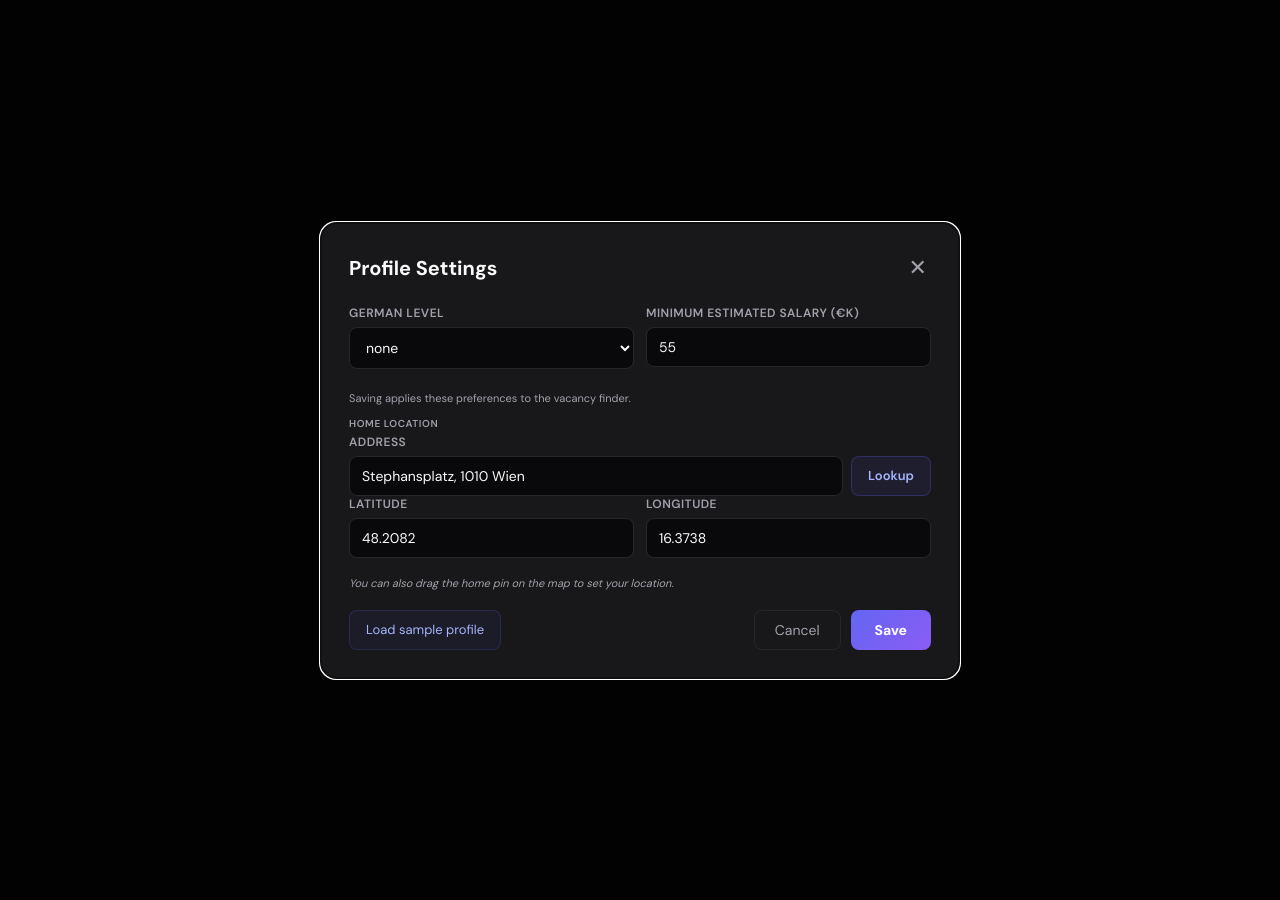
Test case: SettingsModal › successful lookup updates lat/lng and shows 'Coordinates updated'
The width and height of the screenshot is (1280, 900).
What coordinates should you click on to do the following:
click the button "Lookup"
I would click on:
 (891, 476)
Its box is x1=851 y1=456 x2=931 y2=496.
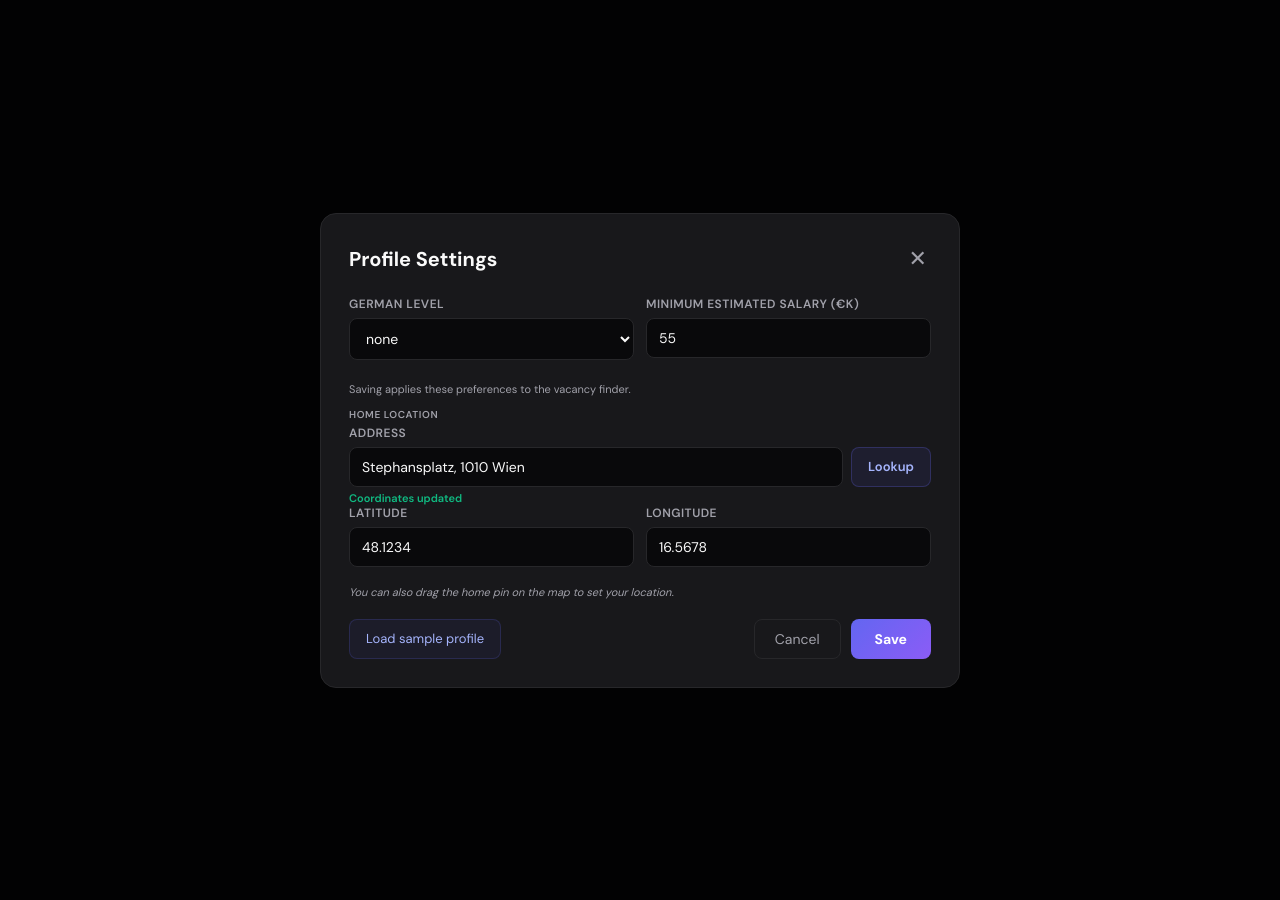
Check: the text "Coordinates updated" is shown, box x1=349 y1=490 x2=462 y2=504
